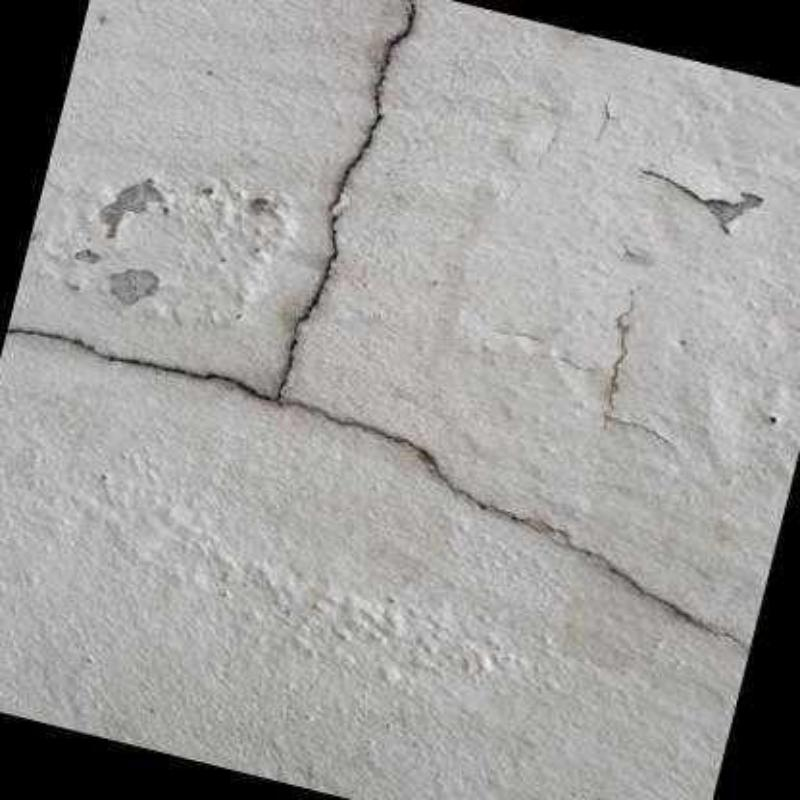pothole: (4, 0, 751, 659)
